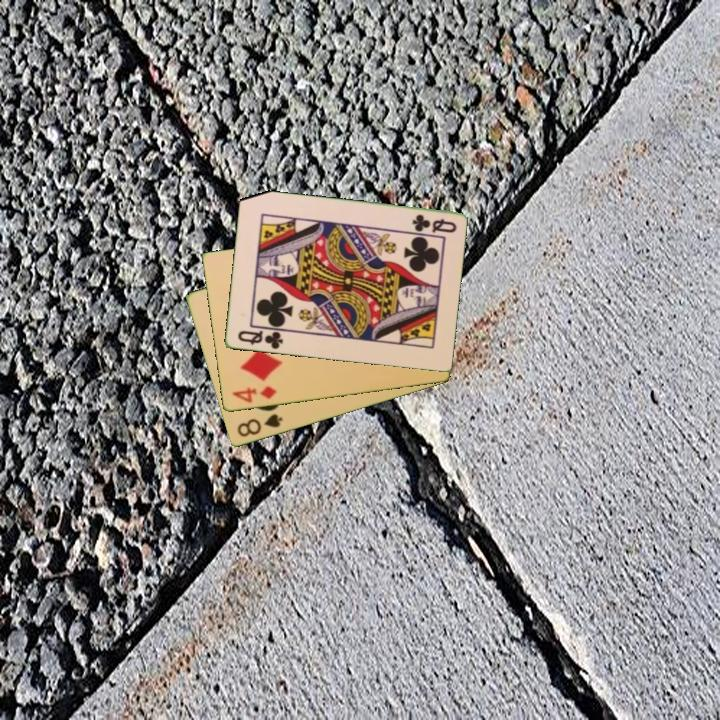4d: (228, 383, 280, 406)
8s: (233, 411, 285, 440)
Qc: (234, 327, 286, 352), (408, 211, 459, 236)
